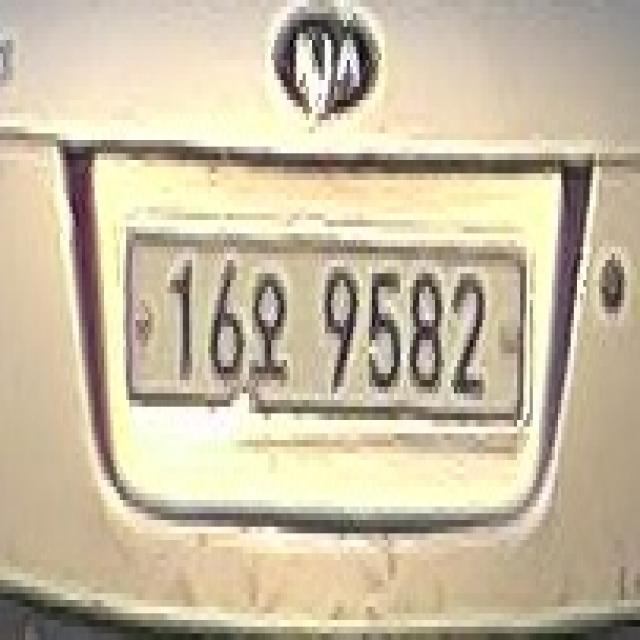1: (161, 247, 202, 380)
2: (448, 260, 488, 400)
5: (362, 260, 407, 400)
6: (205, 247, 246, 380)
8: (407, 260, 448, 400)
9: (315, 254, 363, 394)
license_plate: (117, 220, 532, 447)
o: (249, 260, 290, 380)
